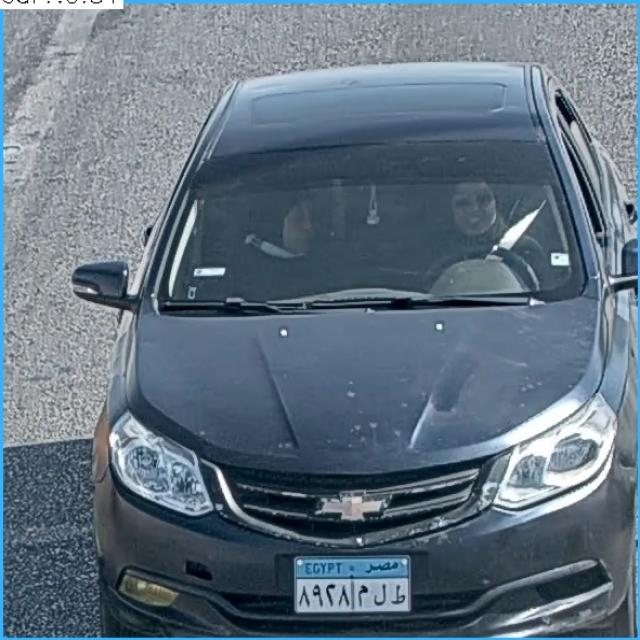windshield: (169, 153, 577, 308)
